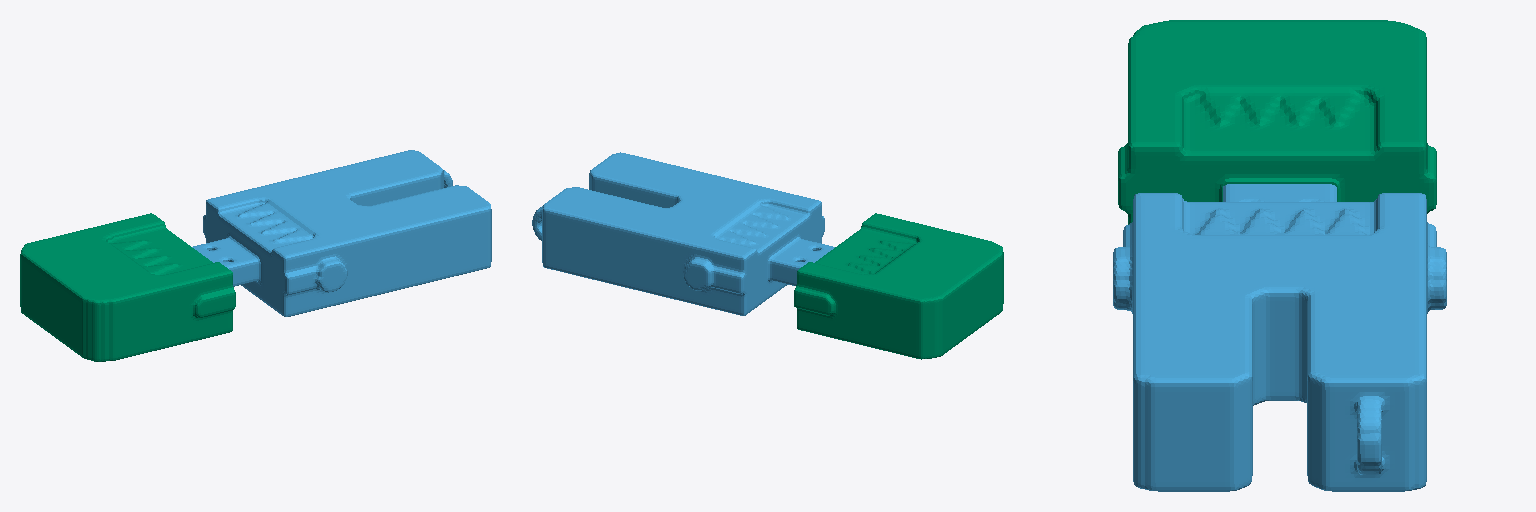
URDF robot description (object):
<?xml version='1.0' encoding='utf-8'?>
<robot name="object">
  <link name="base">
    <inertial>
      <origin xyz="0 0 0" rpy="0 0 0" />
      <mass value="0.0" />
      <inertia ixx="0" ixy="0" ixz="0" iyy="0" iyz="0" izz="0" />
    </inertial>
  </link>
  <link name="link_1">
    <visual>
      <origin xyz="0 0 0" rpy="0 0 0" />
      <geometry>
        <mesh filename="meshes/link_1.stl" />
      </geometry>
    </visual>
    <collision>
      <origin xyz="0 0 0" rpy="0 0 0" />
      <geometry>
        <mesh filename="meshes/link_1.stl" />
      </geometry>
    </collision>
    <inertial>
      <origin xyz="0.47079362 -0.0102187093 -0.0011528437" rpy="0 0 0" />
      <mass value="116.82141" />
      <inertia ixx="4.56867963" ixy="-0.025759205" ixz="-0.0474412287" iyy="5.66817223" iyz="-0.00048460948" izz="9.01250098" />
    </inertial>
  </link>
  <link name="link_2">
    <visual>
      <origin xyz="0.184626082 0.0107083639 0.000530721691" rpy="0 0 0" />
      <geometry>
        <mesh filename="meshes/link_2.stl" />
      </geometry>
    </visual>
    <collision>
      <origin xyz="0.184626082 0.0107083639 0.000530721691" rpy="0 0 0" />
      <geometry>
        <mesh filename="meshes/link_2.stl" />
      </geometry>
    </collision>
    <inertial>
      <origin xyz="-0.323429335 -0.00439306918 -0.00179009624" rpy="0 0 0" />
      <mass value="82.9367594" />
      <inertia ixx="3.06562988" ixy="0.0124918213" ixz="0.0383457051" iyy="2.97271879" iyz="0.000657816297" izz="5.16934445" />
    </inertial>
  </link>
  <joint name="joint_1_2" type="prismatic">
    <parent link="link_1" />
    <child link="link_2" />
    <origin xyz="-0.184626082 -0.0107083639 -0.000530721691" rpy="0 0 0" />
    <axis xyz="0.999993176 -0.00121125393 -0.00349023658" />
    <limit lower="-1.57" upper="1.57" effort="10.0" velocity="1.0" />
  </joint>
  <joint name="base_to_1" type="fixed">
    <parent link="base" />
    <child link="link_1" />
    <origin xyz="0 0 0" rpy="0 0 0" />
  </joint>
</robot>

--- Facts derived from the render (not from the file) ---
The picture shows the robot from 3 angles, left to right: view 1: azimuth 30°, elevation 25°; view 2: azimuth 150°, elevation 25°; view 3: azimuth 270°, elevation 25°; orthographic projection.
Model object with 3 links and 2 joints (1 prismatic, 1 fixed), rooted at base, posed every joint at zero.
Links seen in each view (by area): view 1: link_1, link_2; view 2: link_1, link_2; view 3: link_1, link_2.
Boxes of the visible links, x1,y1,x2,y2 form: link_1: [192, 150, 491, 316]; link_2: [20, 213, 235, 361]; link_1: [532, 152, 834, 315]; link_2: [794, 213, 1003, 359]; link_1: [1113, 184, 1446, 491]; link_2: [1118, 20, 1436, 224].
Size in the robot's own frame: 1.8 by 0.6704 by 0.2502 metres.
2 mesh visuals loaded from 2 distinct referenced files (2 binary STL).
